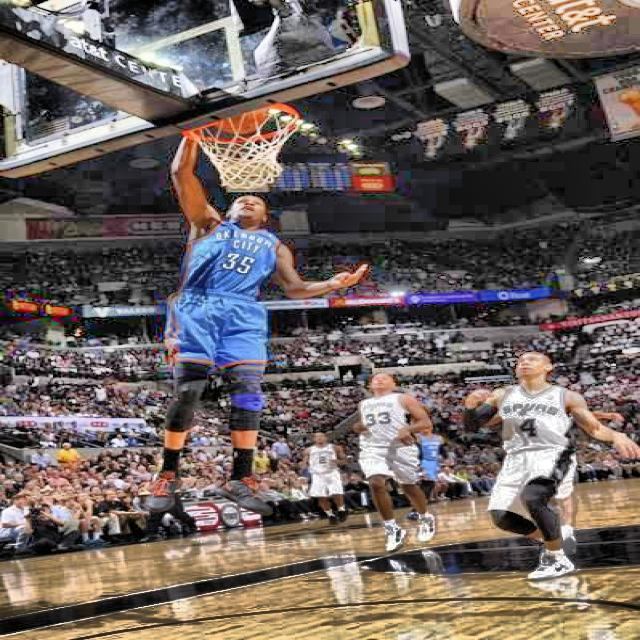rim: (184, 104, 298, 188)
